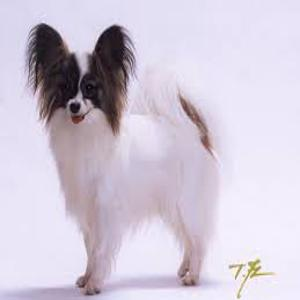yell: (27, 23, 219, 293)
